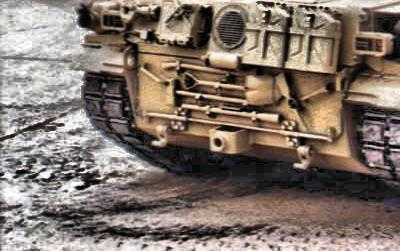tanks: (81, 1, 400, 183)
